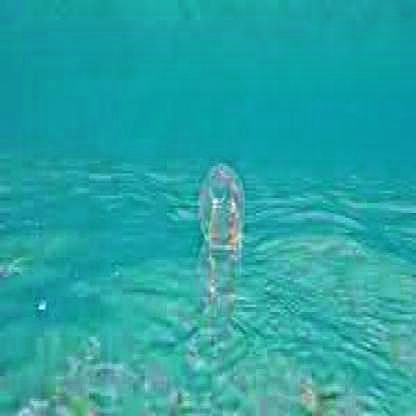pbottle: (190, 158, 252, 322)
